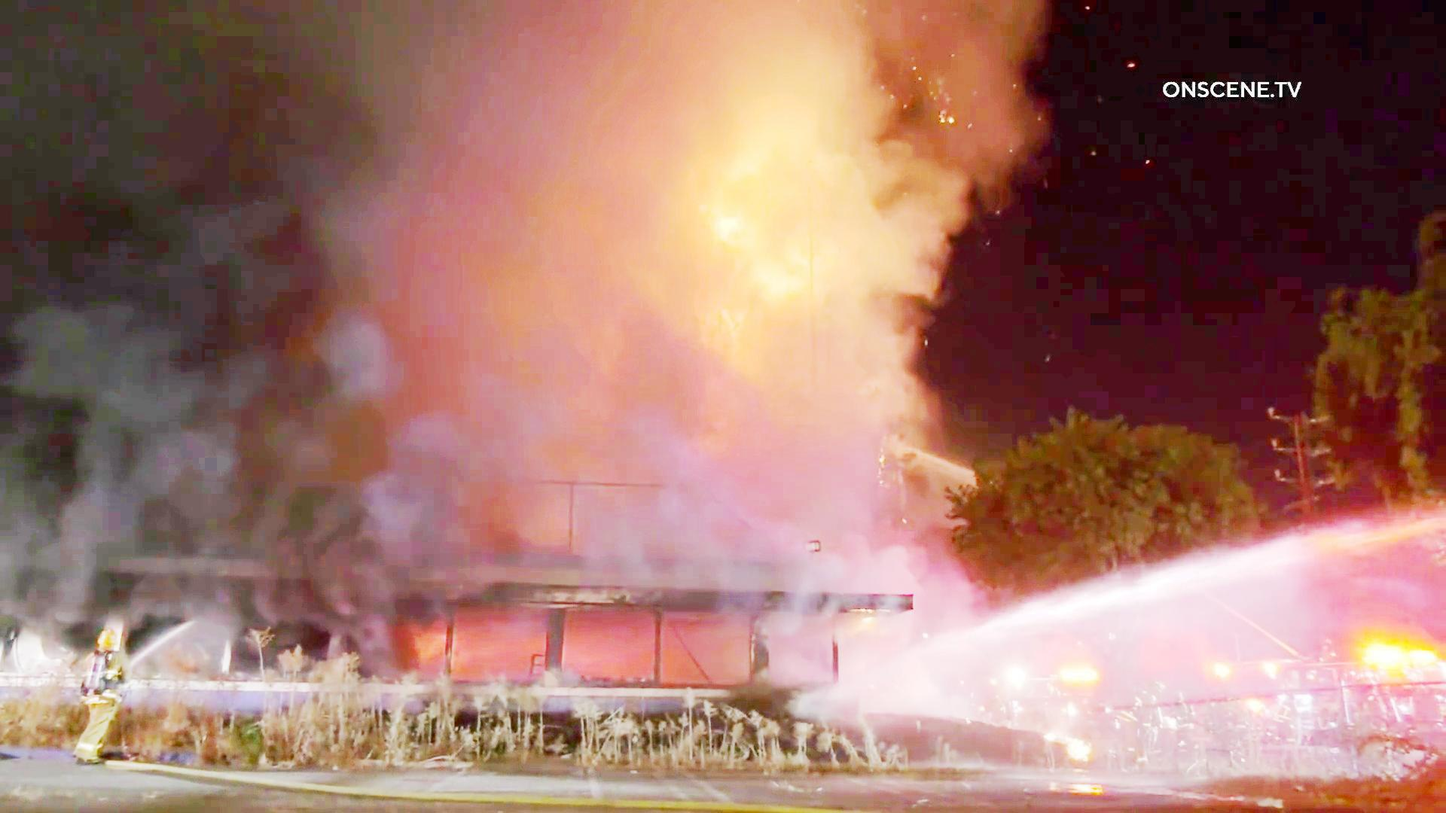fire: (691, 132, 807, 279)
smoke: (24, 2, 652, 559), (0, 219, 296, 627), (296, 333, 567, 643)
